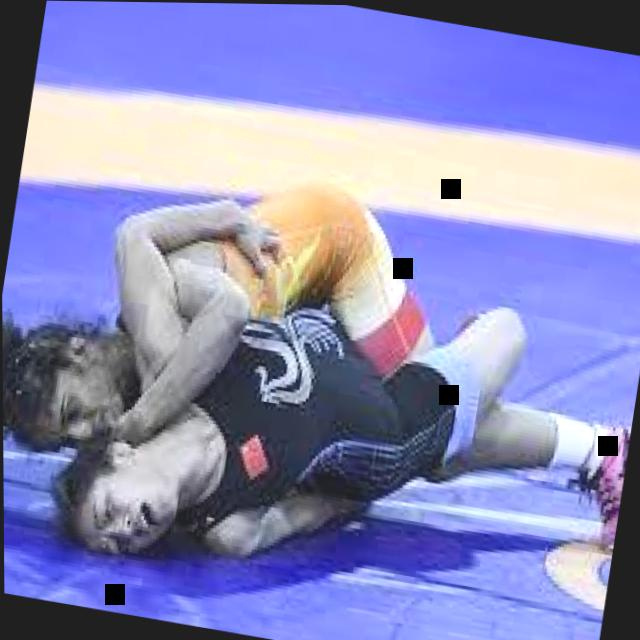Fall-Detected: (12, 90, 640, 640)
